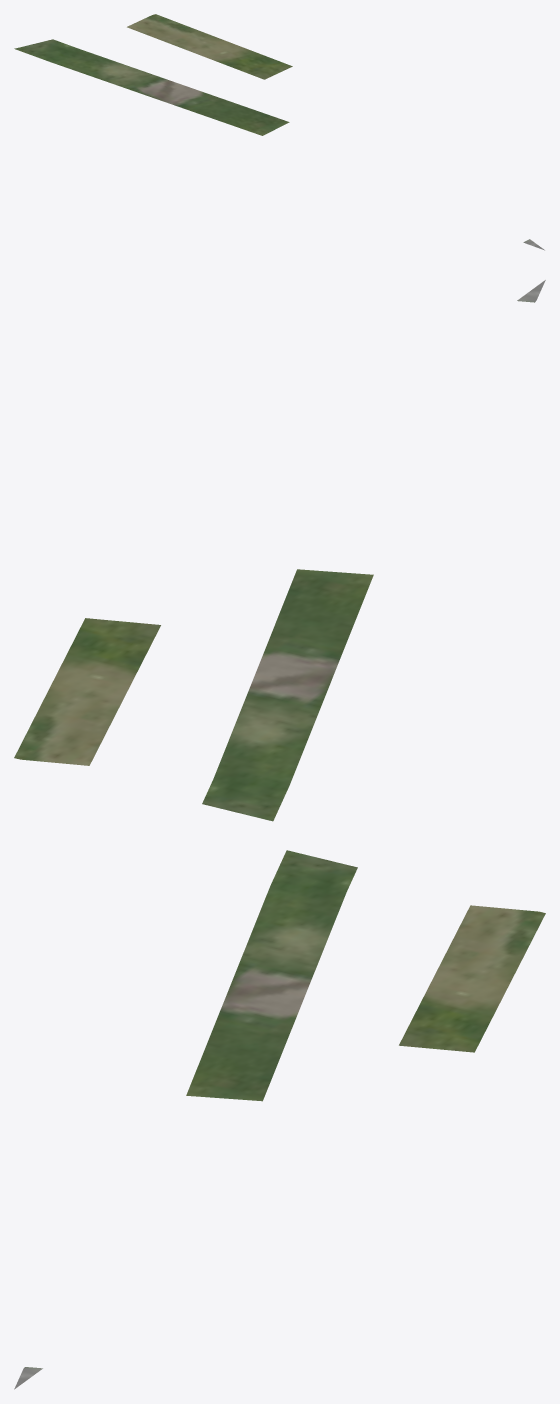
Rendered from LSZB_-1_-1.glb.
The picture shows the model from 3 angles, top to bottom: view 1: azimuth 30°, elevation 25°; view 2: azimuth 150°, elevation 25°; view 3: azimuth 330°, elevation 25°; orthographic projection. The views are drawn at different scales.
Visible parts, largest first — view 1: pavement_LSZB_pavement_5208_2390; view 2: pavement_LSZB_pavement_5208_2390; view 3: pavement_LSZB_pavement_5208_2390.
Boxes of the visible parts, left/top/right/bottom form: pavement_LSZB_pavement_5208_2390: left=14, top=14, right=544, bottom=250; pavement_LSZB_pavement_5208_2390: left=14, top=280, right=545, bottom=821; pavement_LSZB_pavement_5208_2390: left=14, top=850, right=545, bottom=1389.
Bounding box in the file's own units: 156 × 0.4955 × 480.
Materials: 1 (1 with a texture image).
